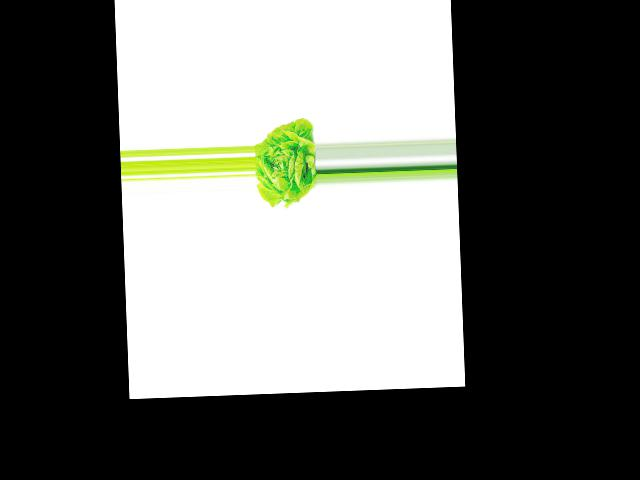lettuce: (253, 116, 318, 205)
